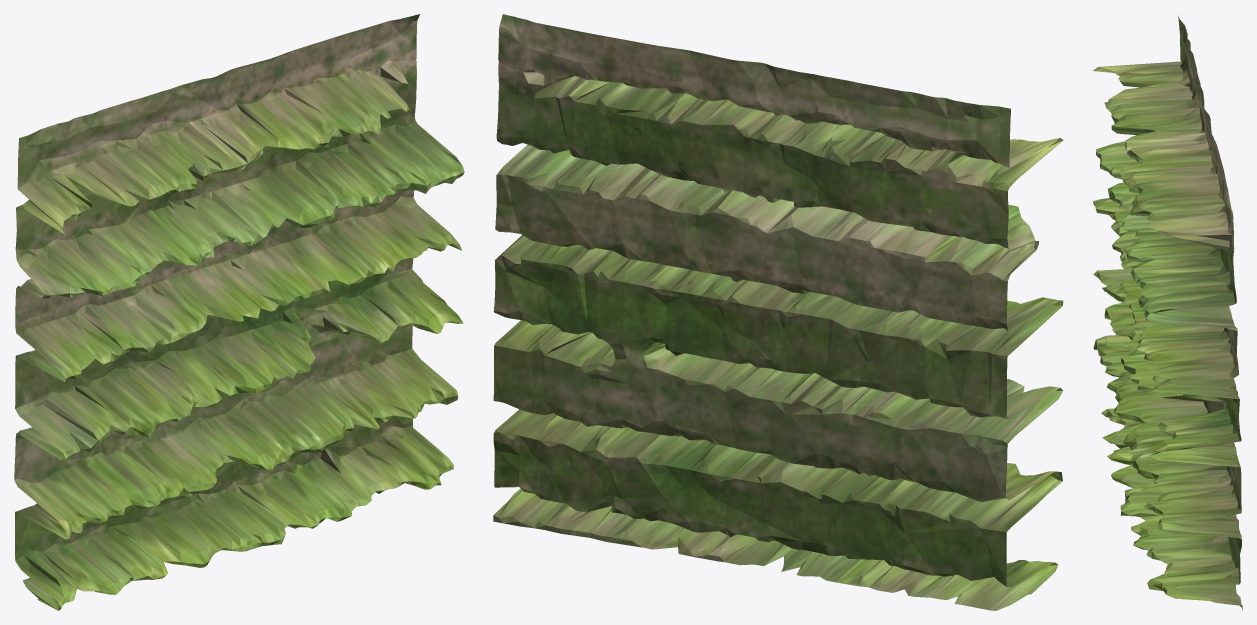
File: map_60_20.obj
3 views of the same model, side by side, from view 1: azimuth 30°, elevation 25°; view 2: azimuth 150°, elevation 25°; view 3: azimuth 270°, elevation 25° (orthographic). The views are drawn at different scales.
Visible parts, largest first — view 1: grp1; view 2: grp1; view 3: grp1.
Part boxes in pixels (x1,y1,x2,y2): grp1: (14,14,464,610); grp1: (493,14,1063,610); grp1: (1093,15,1242,610).
Size of the model in its own units: 10 by 10 by 3.34.
1 material, 1 textured.
